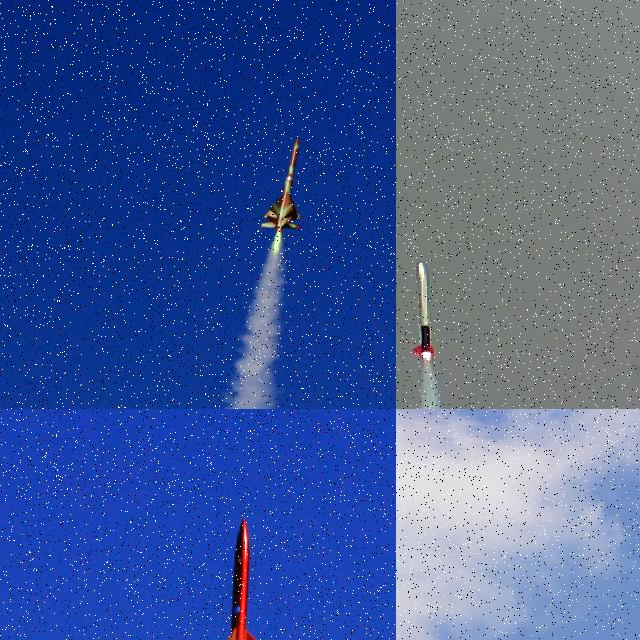Rocket: (213, 517, 273, 640), (260, 137, 302, 231), (410, 261, 436, 359)
